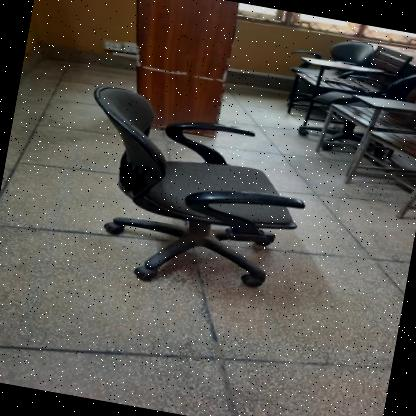chair: (57, 76, 326, 309)
